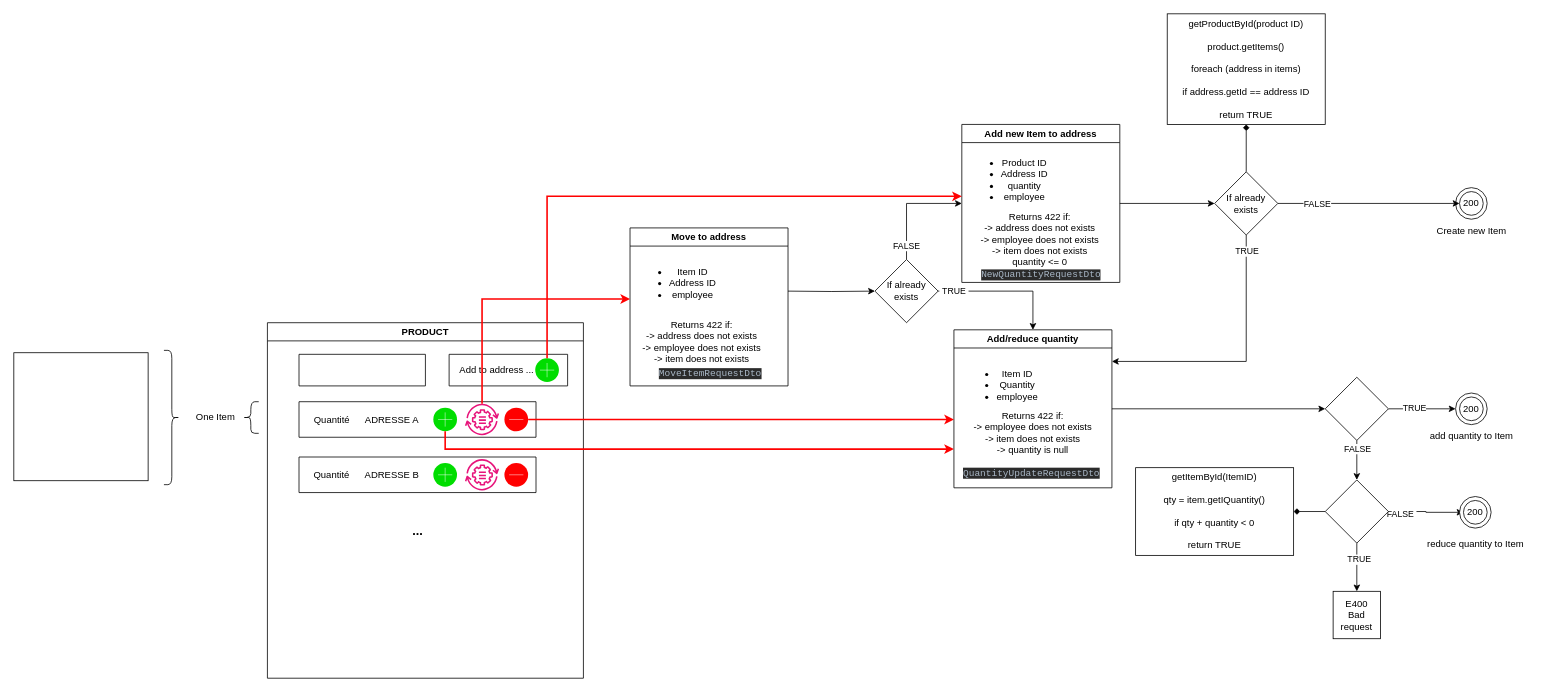
This 1552x692 diagram has some shape labels left out. The shapes that lost their labels are listed below. From the top down, each one's centre as x and y in pixels, then its label:
At point 361,370: "TOTAL".
At point 80,416: "Afficher chaque item si sa quantity est supérieure à 0 Sinon ne pas l'afficher.".
At point 1356,408: "If added quantity >0".
At point 1356,511: "If new quantity <0".
